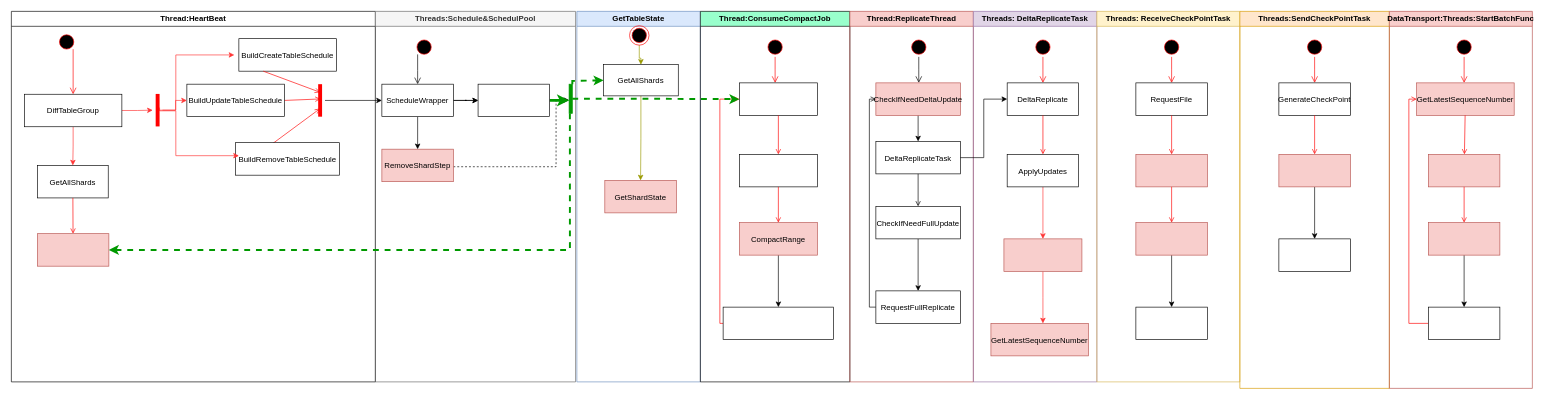
Image size: 1545x400. Some labels were removed from this diagram. Each missing label, with the centre of its shape:
"ApplyCheckPoint" goes at point 1171,170.
"Checkpoint::Create" goes at point 1314,170.
"CollectShardStatus" goes at point 73,249.
"compact_job_queue" goes at point 778,98.
"DelDBManualCompactStatus" goes at point 778,323.
"GetBinlog" goes at point 1464,170.
"GetCompactDBName" goes at point 778,170.
"GetUpdatesSince" goes at point 1464,238.
"LoadShardStep" goes at point 513,100.
"Open" goes at point 1171,323.
"Remove" goes at point 1171,238.
"SendData" goes at point 1464,323.
"SendFullReplicate" goes at point 1314,254.
"WriteWithSeqNumber" goes at point 1042,254.
